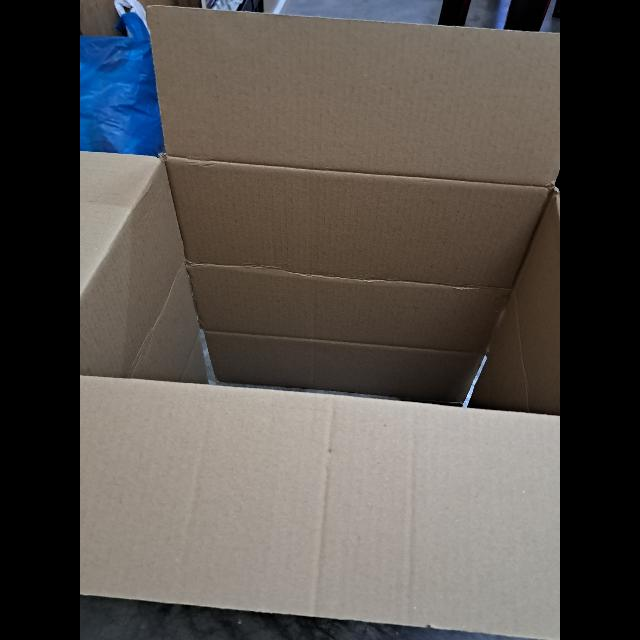papelão: (80, 6, 560, 640)
sacola plástica: (80, 10, 160, 154)
